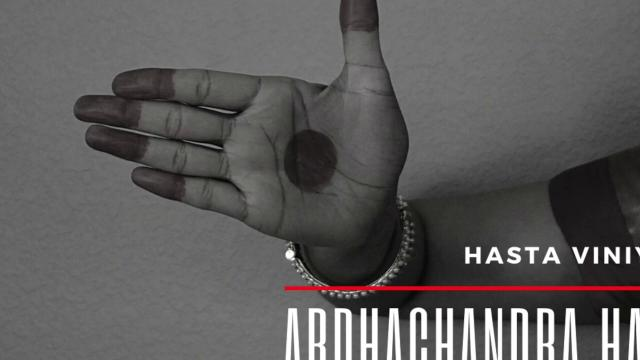ardhachandra: (64, 2, 456, 290)
